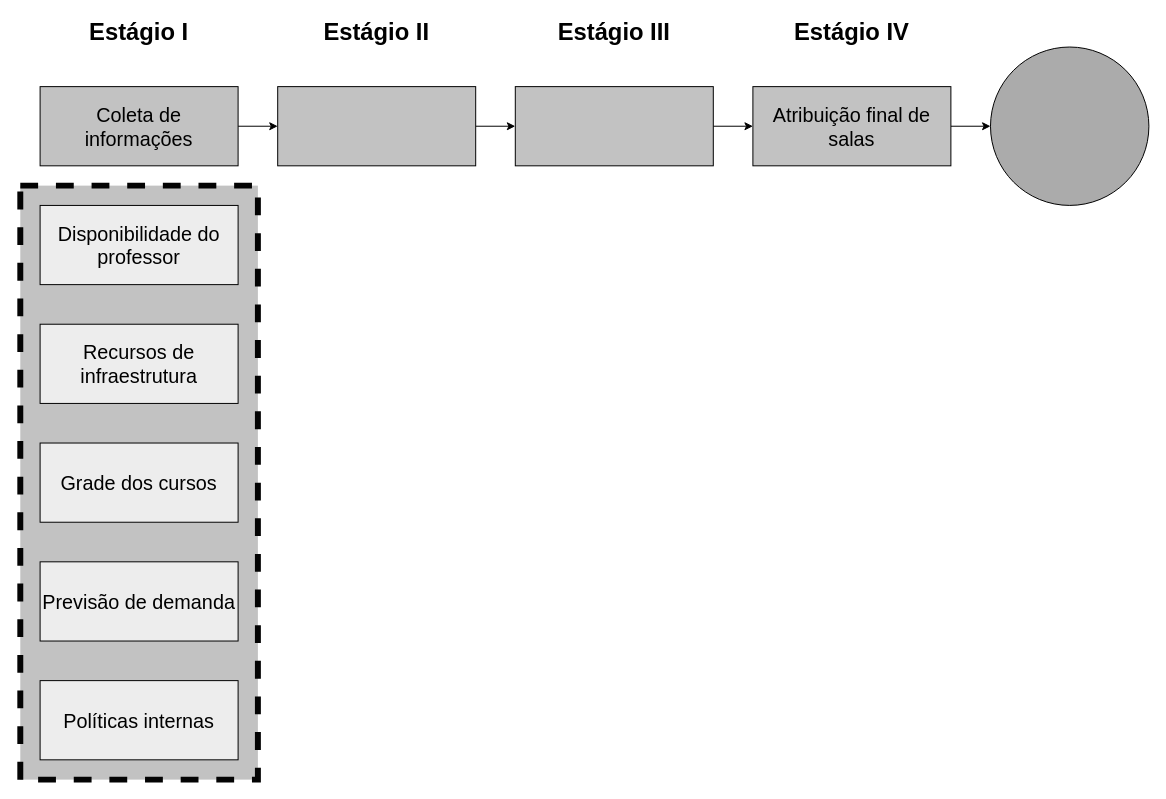
The diagram is 1166 pixels wide and 799 high, and some of its shapes have lost their labels. The shapes that lost their labels are listed below. From the top down, each one's centre as x and y in pixels, then its label:
At (x=376, y=126): "Definição de grades e atribuição preliminar de salas".
At (x=613, y=126): "Publicação das grades, inscrições e ajuste de demanda".
At (x=1069, y=125): "Definição final das grades e salas".
